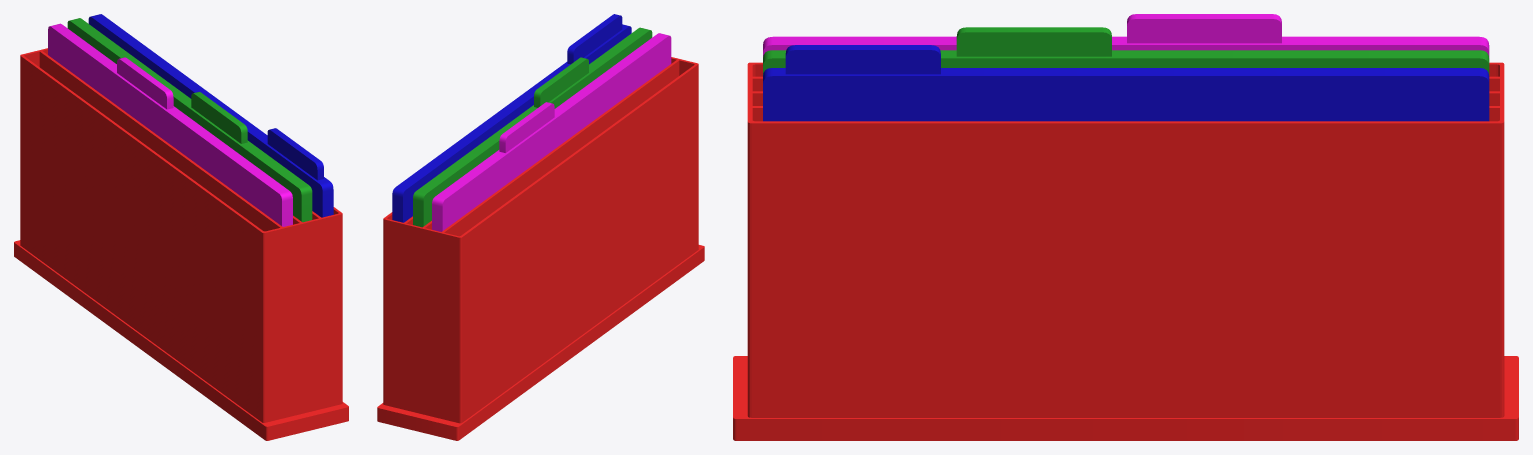
Rendered from cutting boards.FBX.
The picture shows the model from 3 angles, left to right: view 1: azimuth 30°, elevation 25°; view 2: azimuth 150°, elevation 25°; view 3: azimuth 270°, elevation 25°; orthographic projection. The views are drawn at different scales.
Parts seen in each view (by area): view 1: Box001, Box005, Box004, Box003; view 2: Box001, Box005, Box004, Box003; view 3: Box001, Box003, Box004, Box005.
Part boxes in pixels (x1,y1,x2,y2): Box001: [14, 48, 348, 440]; Box005: [48, 23, 292, 226]; Box004: [67, 18, 312, 222]; Box003: [88, 14, 333, 217]; Box001: [377, 57, 704, 440]; Box005: [432, 33, 671, 231]; Box004: [413, 27, 652, 227]; Box003: [392, 14, 631, 222]; Box001: [733, 62, 1518, 440]; Box003: [763, 45, 1489, 121]; Box004: [763, 27, 1489, 75]; Box005: [763, 14, 1489, 57].
Bounding box in the file's own units: 3.85 × 10.98 × 20.25.
